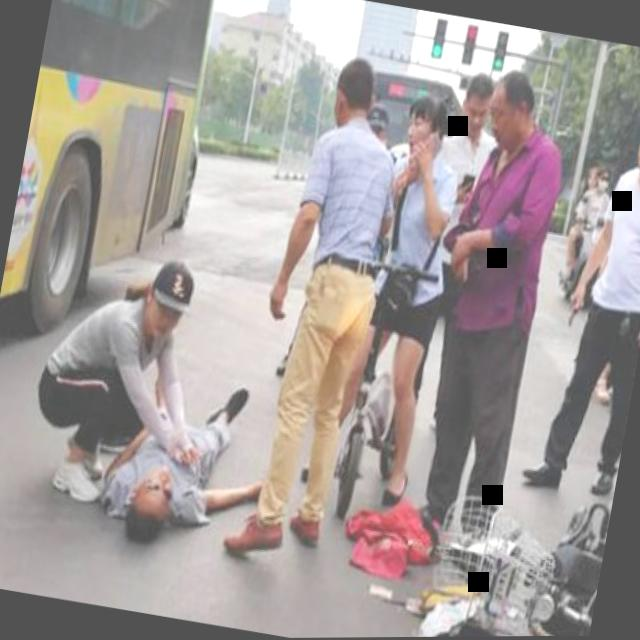Fall-Detected: (88, 354, 282, 561)
